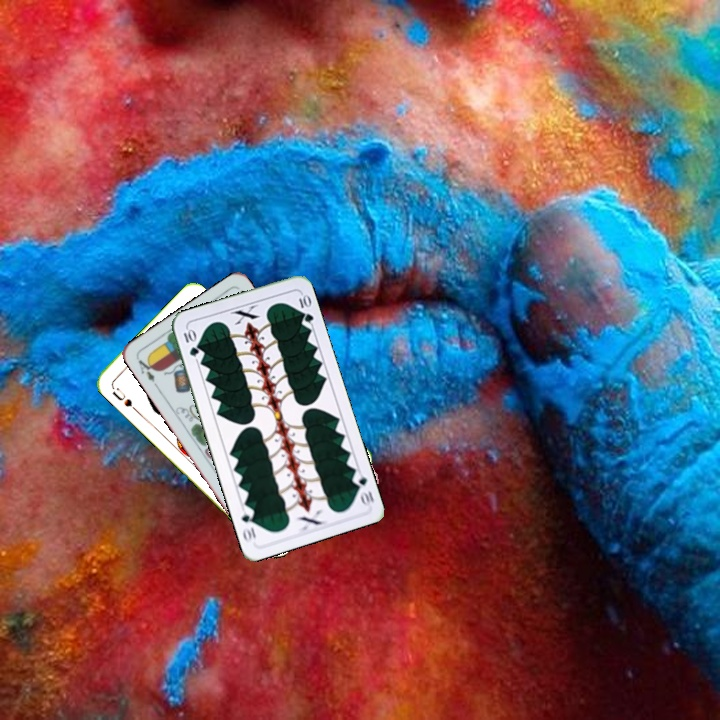EA: (133, 354, 159, 385)
G10: (348, 469, 377, 508), (179, 324, 201, 359)
SU: (107, 382, 140, 414)
